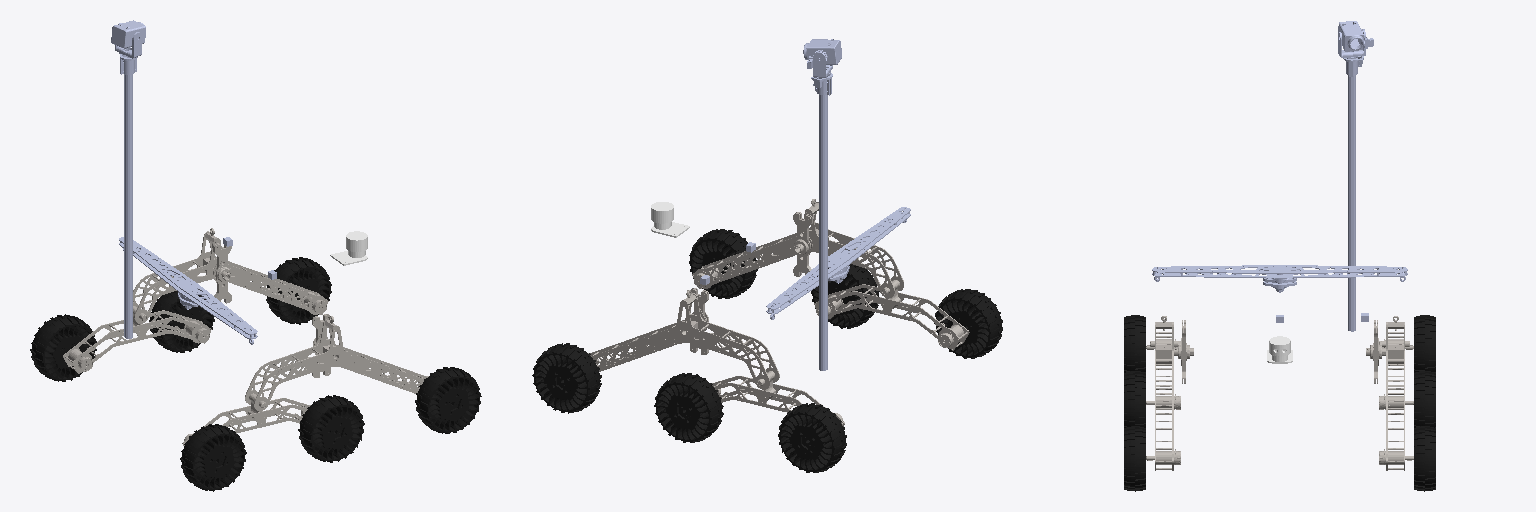
robot.urdf — Chassis:
<?xml version="1.0" encoding="utf-8"?>
<!-- Big rover (Chassis.SLDASM). Hand-built from SolidWorks exports, same structure as mini_rover.urdf.
     Frame + 2 rockers + 2 bogies + 6 wheels; rockers coupled through the differential bar via <mimic>.
     See rover_description/CLAUDE.md ("Big rover") for where every number came from and what is a placeholder. -->
<robot name="Chassis">
  <link name="base_link">
    <inertial>
      <origin xyz="-0.323229813769833 0.000141183589907848 0.120313130621598" rpy="0 0 0" />
      <mass value="2.88138673191465" />
      <inertia ixx="0.0724634" ixy="2.41179e-08" ixz="-3.29817e-05" iyy="0.0548014" iyz="8.02935e-10" izz="0.0898029" />
    </inertial>
    <visual>
      <origin xyz="0 0 0" rpy="0 0 0" />
      <geometry>
        <mesh filename="package://rover_description/meshes/chassis/base_link.STL" />
      </geometry>
      <material name="">
        <color rgba="0.752941176470588 0.752941176470588 0.752941176470588 1" />
      </material>
    </visual>
    <collision>
      <origin xyz="0 0 0" rpy="0 0 0" />
      <geometry>
        <mesh filename="package://rover_description/meshes/chassis/base_link.STL" />
      </geometry>
    </collision>
  </link>
  <link name="RockerL_Link">
    <inertial>
      <origin xyz="0.09 0.12 -0.03" rpy="0 0 0" />
      <mass value="0.98" />
      <inertia ixx="0.0021315" ixy="0" ixz="0" iyy="0.0363417" iyz="0" izz="0.0347982" />
    </inertial>
    <visual>
      <origin xyz="0 0 0" rpy="0 0 0" />
      <geometry>
        <mesh filename="package://rover_description/meshes/chassis/rocker_left.STL" />
      </geometry>
      <material name="">
        <color rgba="0.776470588235294 0.756862745098039 0.737254901960784 1" />
      </material>
    </visual>
    <collision>
      <origin xyz="0 0 0" rpy="0 0 0" />
      <geometry>
        <mesh filename="package://rover_description/meshes/chassis/rocker_left.STL" />
      </geometry>
    </collision>
  </link>
  <joint name="RockerL_joint" type="revolute">
    <origin xyz="-0.25 0.2319125 0.103175" rpy="0 0 0" />
    <parent link="base_link" />
    <child link="RockerL_Link" />
    <axis xyz="0 1 0" />
    <limit lower="-0.35" upper="0.35" effort="0" velocity="0" />
  </joint>
  <link name="WFL_Link">
    <inertial>
      <origin xyz="0 0 0" rpy="0 0 0" />
      <mass value="0.6" />
      <inertia ixx="0.001745" ixy="0" ixz="0" iyy="0.003" iyz="0" izz="0.001745" />
    </inertial>
    <visual>
      <origin xyz="0 0 0" rpy="0 0 0" />
      <geometry>
        <mesh filename="package://rover_description/meshes/chassis/wheel_left.STL" />
      </geometry>
      <material name="">
        <color rgba="0.15 0.15 0.15 1" />
      </material>
    </visual>
    <collision>
      <origin xyz="0 0 0" rpy="1.5707963267949 0 0" />
      <geometry>
        <cylinder radius="0.1" length="0.07" />
      </geometry>
    </collision>
  </link>
  <joint name="WFL_joint" type="continuous">
    <origin xyz="0.347 0.2111 -0.198175" rpy="0 0 0" />
    <parent link="RockerL_Link" />
    <child link="WFL_Link" />
    <axis xyz="0 1 0" />
  </joint>
  <link name="BogieL_Link">
    <inertial>
      <origin xyz="0 0.12 -0.07" rpy="0 0 0" />
      <mass value="0.69" />
      <inertia ixx="0.00117875" ixy="0" ixz="0" iyy="0.0142197" iyz="0" izz="0.013455" />
    </inertial>
    <visual>
      <origin xyz="0 0 0" rpy="0 0 0" />
      <geometry>
        <mesh filename="package://rover_description/meshes/chassis/bogie_left.STL" />
      </geometry>
      <material name="">
        <color rgba="0.776470588235294 0.756862745098039 0.737254901960784 1" />
      </material>
    </visual>
    <collision>
      <origin xyz="0 0 0" rpy="0 0 0" />
      <geometry>
        <mesh filename="package://rover_description/meshes/chassis/bogie_left.STL" />
      </geometry>
    </collision>
  </link>
  <joint name="BogieL_joint" type="revolute">
    <origin xyz="-0.256 0 -0.090175" rpy="0 0 0" />
    <parent link="RockerL_Link" />
    <child link="BogieL_Link" />
    <axis xyz="0 1 0" />
    <limit lower="-0.6" upper="0.6" effort="0" velocity="0" />
  </joint>
  <link name="WML_Link">
    <inertial>
      <origin xyz="0 0 0" rpy="0 0 0" />
      <mass value="0.6" />
      <inertia ixx="0.001745" ixy="0" ixz="0" iyy="0.003" iyz="0" izz="0.001745" />
    </inertial>
    <visual>
      <origin xyz="0 0 0" rpy="0 0 0" />
      <geometry>
        <mesh filename="package://rover_description/meshes/chassis/wheel_left.STL" />
      </geometry>
      <material name="">
        <color rgba="0.15 0.15 0.15 1" />
      </material>
    </visual>
    <collision>
      <origin xyz="0 0 0" rpy="1.5707963267949 0 0" />
      <geometry>
        <cylinder radius="0.1" length="0.07" />
      </geometry>
    </collision>
  </link>
  <joint name="WML_joint" type="continuous">
    <origin xyz="0.204 0.2111 -0.108" rpy="0 0 0" />
    <parent link="BogieL_Link" />
    <child link="WML_Link" />
    <axis xyz="0 1 0" />
  </joint>
  <link name="WBL_Link">
    <inertial>
      <origin xyz="0 0 0" rpy="0 0 0" />
      <mass value="0.6" />
      <inertia ixx="0.001745" ixy="0" ixz="0" iyy="0.003" iyz="0" izz="0.001745" />
    </inertial>
    <visual>
      <origin xyz="0 0 0" rpy="0 0 0" />
      <geometry>
        <mesh filename="package://rover_description/meshes/chassis/wheel_left.STL" />
      </geometry>
      <material name="">
        <color rgba="0.15 0.15 0.15 1" />
      </material>
    </visual>
    <collision>
      <origin xyz="0 0 0" rpy="1.5707963267949 0 0" />
      <geometry>
        <cylinder radius="0.1" length="0.07" />
      </geometry>
    </collision>
  </link>
  <joint name="WBL_joint" type="continuous">
    <origin xyz="-0.2 0.2111 -0.108" rpy="0 0 0" />
    <parent link="BogieL_Link" />
    <child link="WBL_Link" />
    <axis xyz="0 1 0" />
  </joint>
  <link name="RockerR_Link">
    <inertial>
      <origin xyz="0.09 -0.12 -0.03" rpy="0 0 0" />
      <mass value="0.98" />
      <inertia ixx="0.0021315" ixy="0" ixz="0" iyy="0.0363417" iyz="0" izz="0.0347982" />
    </inertial>
    <visual>
      <origin xyz="0 0 0" rpy="0 0 0" />
      <geometry>
        <mesh filename="package://rover_description/meshes/chassis/rocker_right.STL" />
      </geometry>
      <material name="">
        <color rgba="0.776470588235294 0.756862745098039 0.737254901960784 1" />
      </material>
    </visual>
    <collision>
      <origin xyz="0 0 0" rpy="0 0 0" />
      <geometry>
        <mesh filename="package://rover_description/meshes/chassis/rocker_right.STL" />
      </geometry>
    </collision>
  </link>
  <joint name="RockerR_joint" type="revolute">
    <!-- Rockers are coupled through the differential: R = -L -->
    <origin xyz="-0.25 -0.2319125 0.103175" rpy="0 0 0" />
    <parent link="base_link" />
    <child link="RockerR_Link" />
    <axis xyz="0 1 0" />
    <limit lower="-0.35" upper="0.35" effort="0" velocity="0" />
    <mimic joint="RockerL_joint" multiplier="-1" offset="0" />
  </joint>
  <link name="WFR_Link">
    <inertial>
      <origin xyz="0 0 0" rpy="0 0 0" />
      <mass value="0.6" />
      <inertia ixx="0.001745" ixy="0" ixz="0" iyy="0.003" iyz="0" izz="0.001745" />
    </inertial>
    <visual>
      <origin xyz="0 0 0" rpy="0 0 0" />
      <geometry>
        <mesh filename="package://rover_description/meshes/chassis/wheel_right.STL" />
      </geometry>
      <material name="">
        <color rgba="0.15 0.15 0.15 1" />
      </material>
    </visual>
    <collision>
      <origin xyz="0 0 0" rpy="1.5707963267949 0 0" />
      <geometry>
        <cylinder radius="0.1" length="0.07" />
      </geometry>
    </collision>
  </link>
  <joint name="WFR_joint" type="continuous">
    <origin xyz="0.347 -0.2111 -0.198175" rpy="0 0 0" />
    <parent link="RockerR_Link" />
    <child link="WFR_Link" />
    <axis xyz="0 1 0" />
  </joint>
  <link name="BogieR_Link">
    <inertial>
      <origin xyz="0 -0.12 -0.07" rpy="0 0 0" />
      <mass value="0.69" />
      <inertia ixx="0.00117875" ixy="0" ixz="0" iyy="0.0142197" iyz="0" izz="0.013455" />
    </inertial>
    <visual>
      <origin xyz="0 0 0" rpy="0 0 0" />
      <geometry>
        <mesh filename="package://rover_description/meshes/chassis/bogie_right.STL" />
      </geometry>
      <material name="">
        <color rgba="0.776470588235294 0.756862745098039 0.737254901960784 1" />
      </material>
    </visual>
    <collision>
      <origin xyz="0 0 0" rpy="0 0 0" />
      <geometry>
        <mesh filename="package://rover_description/meshes/chassis/bogie_right.STL" />
      </geometry>
    </collision>
  </link>
  <joint name="BogieR_joint" type="revolute">
    <origin xyz="-0.256 0 -0.090175" rpy="0 0 0" />
    <parent link="RockerR_Link" />
    <child link="BogieR_Link" />
    <axis xyz="0 1 0" />
    <limit lower="-0.6" upper="0.6" effort="0" velocity="0" />
  </joint>
  <link name="WMR_Link">
    <inertial>
      <origin xyz="0 0 0" rpy="0 0 0" />
      <mass value="0.6" />
      <inertia ixx="0.001745" ixy="0" ixz="0" iyy="0.003" iyz="0" izz="0.001745" />
    </inertial>
    <visual>
      <origin xyz="0 0 0" rpy="0 0 0" />
      <geometry>
        <mesh filename="package://rover_description/meshes/chassis/wheel_right.STL" />
      </geometry>
      <material name="">
        <color rgba="0.15 0.15 0.15 1" />
      </material>
    </visual>
    <collision>
      <origin xyz="0 0 0" rpy="1.5707963267949 0 0" />
      <geometry>
        <cylinder radius="0.1" length="0.07" />
      </geometry>
    </collision>
  </link>
  <joint name="WMR_joint" type="continuous">
    <origin xyz="0.204 -0.2111 -0.108" rpy="0 0 0" />
    <parent link="BogieR_Link" />
    <child link="WMR_Link" />
    <axis xyz="0 1 0" />
  </joint>
  <link name="WBR_Link">
    <inertial>
      <origin xyz="0 0 0" rpy="0 0 0" />
      <mass value="0.6" />
      <inertia ixx="0.001745" ixy="0" ixz="0" iyy="0.003" iyz="0" izz="0.001745" />
    </inertial>
    <visual>
      <origin xyz="0 0 0" rpy="0 0 0" />
      <geometry>
        <mesh filename="package://rover_description/meshes/chassis/wheel_right.STL" />
      </geometry>
      <material name="">
        <color rgba="0.15 0.15 0.15 1" />
      </material>
    </visual>
    <collision>
      <origin xyz="0 0 0" rpy="1.5707963267949 0 0" />
      <geometry>
        <cylinder radius="0.1" length="0.07" />
      </geometry>
    </collision>
  </link>
  <joint name="WBR_joint" type="continuous">
    <origin xyz="-0.2 -0.2111 -0.108" rpy="0 0 0" />
    <parent link="BogieR_Link" />
    <child link="WBR_Link" />
    <axis xyz="0 1 0" />
  </joint>
  <link name="Differential_Link">
    <inertial>
      <origin xyz="0 0 0.06" rpy="0 0 0" />
      <mass value="0.55" />
      <inertia ixx="0.0279996" ixy="0" ixz="0" iyy="0.000279583" iyz="0" izz="0.02805" />
    </inertial>
    <visual>
      <origin xyz="0 0 0" rpy="0 0 0" />
      <geometry>
        <mesh filename="package://rover_description/meshes/chassis/differential_bar.STL" />
      </geometry>
      <material name="">
        <color rgba="0.792156862745098 0.819607843137255 0.933333333333333 1" />
      </material>
    </visual>
    <collision>
      <origin xyz="0 0 0" rpy="0 0 0" />
      <geometry>
        <mesh filename="package://rover_description/meshes/chassis/differential_bar.STL" />
      </geometry>
    </collision>
  </link>
  <joint name="Differential_joint" type="revolute">
    <!-- Bar follows the rockers via link rods running along x (rocker ball 0.1127 m above the pivot -> bar ball at |y| 0.375 m). multiplier = -0.112/0.375 ~= -0.3 (small-angle). -->
    <origin xyz="-0.535735 0 0.172959" rpy="0 0 0" />
    <parent link="base_link" />
    <child link="Differential_Link" />
    <axis xyz="0 0 1" />
    <limit lower="-0.35" upper="0.35" effort="0" velocity="0" />
    <mimic joint="RockerL_joint" multiplier="-0.3" offset="0" />
  </joint>
  <link name="LiDAR_Link">
    <inertial>
      <origin xyz="-0.0261061014235503 -4.55680518327666E-08 0.0285945311604336" rpy="0 0 0" />
      <mass value="0.215990422113963" />
      <inertia ixx="0.000114309" ixy="3.04724e-10" ixz="6.62519e-07" iyy="0.000117412" iyz="3.16376e-11" izz="0.000124138" />
    </inertial>
    <visual>
      <origin xyz="0 0 0" rpy="0 0 0" />
      <geometry>
        <mesh filename="package://rover_description/meshes/misc/chassis_lidar.STL" />
      </geometry>
      <material name="">
        <color rgba="1 1 1 0.35" />
      </material>
    </visual>
    <collision>
      <origin xyz="0 0 0" rpy="0 0 0" />
      <geometry>
        <mesh filename="package://rover_description/meshes/misc/chassis_lidar.STL" />
      </geometry>
    </collision>
  </link>
  <joint name="LiDAR_joint" type="fixed">
    <origin xyz="0.0625 0 0.21476" rpy="0 0 0" />
    <parent link="base_link" />
    <child link="LiDAR_Link" />
  </joint>
  <link name="PTZ_Link">
    <inertial>
      <origin xyz="-0.00928620373163125 0.00150178339648377 -0.182772691673925" rpy="0 0 0" />
      <mass value="0.381186493803212" />
      <inertia ixx="0.0107542" ixy="2.60657e-06" ixz="-1.38824e-06" iyy="0.0106927" iyz="-1.71972e-07" izz="0.000187498" />
    </inertial>
    <visual>
      <origin xyz="0 0 0" rpy="0 0 0" />
      <geometry>
        <mesh filename="package://rover_description/meshes/misc/chassis_ptz.STL" />
      </geometry>
      <material name="">
        <color rgba="0.792156862745098 0.819607843137255 0.933333333333333 1" />
      </material>
    </visual>
    <collision>
      <origin xyz="0 0 0" rpy="0 0 0" />
      <geometry>
        <mesh filename="package://rover_description/meshes/misc/chassis_ptz.STL" />
      </geometry>
    </collision>
  </link>
  <joint name="PTZ_joint" type="fixed">
    <origin xyz="-0.60299 0.22239 0.951" rpy="0 0 0.2412" />
    <parent link="base_link" />
    <child link="PTZ_Link" />
  </joint>
  <link name="IMU_Link">
    <inertial>
      <origin xyz="0.0095 0.0125 0.0095" rpy="0 0 0" />
      <mass value="0.009025" />
      <inertia ixx="7.41554e-07" ixy="0" ixz="0" iyy="5.43004e-07" iyz="0" izz="7.41554e-07" />
    </inertial>
    <visual>
      <origin xyz="0 0 0" rpy="0 0 0" />
      <geometry>
        <mesh filename="package://rover_description/meshes/misc/chassis_imu.STL" />
      </geometry>
      <material name="">
        <color rgba="0.792156862745098 0.819607843137255 0.933333333333333 1" />
      </material>
    </visual>
    <collision>
      <origin xyz="0 0 0" rpy="0 0 0" />
      <geometry>
        <mesh filename="package://rover_description/meshes/misc/chassis_imu.STL" />
      </geometry>
    </collision>
  </link>
  <joint name="IMU_joint" type="fixed">
    <origin xyz="-0.2575 -0.0125 0.20674" rpy="0 0 0" />
    <parent link="base_link" />
    <child link="IMU_Link" />
  </joint>
  <link name="GPS_Left_Link">
    <inertial>
      <origin xyz="0.0095 -0.0125 0.0095" rpy="0 0 0" />
      <mass value="0.009025" />
      <inertia ixx="7.41554e-07" ixy="0" ixz="0" iyy="5.43004e-07" iyz="0" izz="7.41554e-07" />
    </inertial>
    <visual>
      <origin xyz="0 0 0" rpy="0 0 0" />
      <geometry>
        <mesh filename="package://rover_description/meshes/misc/chassis_left_gps.STL" />
      </geometry>
      <material name="">
        <color rgba="0.792156862745098 0.819607843137255 0.933333333333333 1" />
      </material>
    </visual>
    <collision>
      <origin xyz="0 0 0" rpy="0 0 0" />
      <geometry>
        <mesh filename="package://rover_description/meshes/misc/chassis_left_gps.STL" />
      </geometry>
    </collision>
  </link>
  <joint name="GPS_Left_joint" type="fixed">
    <origin xyz="-0.2595 0.2732639 0.21" rpy="0 0 0" />
    <parent link="base_link" />
    <child link="GPS_Left_Link" />
  </joint>
  <link name="GPS_Right_Link">
    <inertial>
      <origin xyz="0.0095 0.0125 0.0095" rpy="0 0 0" />
      <mass value="0.009025" />
      <inertia ixx="7.41554e-07" ixy="0" ixz="0" iyy="5.43004e-07" iyz="0" izz="7.41554e-07" />
    </inertial>
    <visual>
      <origin xyz="0 0 0" rpy="0 0 0" />
      <geometry>
        <mesh filename="package://rover_description/meshes/misc/chassis_right_gps.STL" />
      </geometry>
      <material name="">
        <color rgba="0.792156862745098 0.819607843137255 0.933333333333333 1" />
      </material>
    </visual>
    <collision>
      <origin xyz="0 0 0" rpy="0 0 0" />
      <geometry>
        <mesh filename="package://rover_description/meshes/misc/chassis_right_gps.STL" />
      </geometry>
    </collision>
  </link>
  <joint name="GPS_Right_joint" type="fixed">
    <origin xyz="-0.2595 -0.2732639 0.21" rpy="0 0 0" />
    <parent link="base_link" />
    <child link="GPS_Right_Link" />
  </joint>
</robot>

--- What the picture shows (computed from the rendered views, not written in the file) ---
Views: 3 orthographic renders of the robot side by side, from view 1: azimuth 30°, elevation 25°; view 2: azimuth 150°, elevation 25°; view 3: azimuth 270°, elevation 25°.
Model Chassis with 17 links and 16 joints (5 revolute, 6 continuous, 5 fixed), rooted at base_link, posed all joints at 0.
Visible links, largest first — view 1: RockerR_Link, RockerL_Link, PTZ_Link, WFR_Link, WMR_Link, WBR_Link, WBL_Link, BogieL_Link, Differential_Link, WFL_Link, WML_Link, BogieR_Link (+1 smaller); view 2: RockerL_Link, RockerR_Link, PTZ_Link, WBL_Link, WFL_Link, WML_Link, WBR_Link, BogieR_Link, Differential_Link, WFR_Link, BogieL_Link, WMR_Link (+1 smaller); view 3: PTZ_Link, Differential_Link, RockerR_Link, RockerL_Link, WFL_Link, WFR_Link, WBR_Link, WBL_Link, WML_Link, WMR_Link, LiDAR_Link, BogieL_Link (+1 smaller).
Boxes of the visible links, x1,y1,x2,y2 form: RockerR_Link: [229, 314, 428, 417]; RockerL_Link: [109, 228, 328, 329]; PTZ_Link: [111, 20, 145, 338]; WFR_Link: [415, 367, 481, 433]; WMR_Link: [298, 395, 364, 462]; WBR_Link: [180, 424, 246, 491]; WBL_Link: [30, 314, 96, 381]; BogieL_Link: [63, 306, 211, 373]; Differential_Link: [119, 237, 257, 344]; WFL_Link: [266, 257, 331, 324]; WML_Link: [149, 291, 214, 352]; BogieR_Link: [182, 394, 310, 445]; RockerL_Link: [588, 288, 795, 396]; RockerR_Link: [692, 199, 920, 304]; PTZ_Link: [803, 39, 841, 370]; WBL_Link: [778, 403, 846, 472]; WFL_Link: [532, 343, 601, 413]; WML_Link: [654, 373, 723, 442]; WBR_Link: [934, 289, 1002, 358]; BogieR_Link: [814, 280, 969, 350]; Differential_Link: [766, 207, 910, 319]; WFR_Link: [689, 229, 757, 298]; BogieL_Link: [712, 371, 844, 426]; WMR_Link: [811, 264, 879, 328]; PTZ_Link: [1338, 21, 1373, 331]; Differential_Link: [1152, 265, 1407, 292]; RockerR_Link: [1146, 316, 1193, 470]; RockerL_Link: [1366, 316, 1413, 470]; WFL_Link: [1414, 426, 1435, 491]; WFR_Link: [1124, 426, 1145, 491]; WBR_Link: [1124, 315, 1145, 372]; WBL_Link: [1414, 315, 1435, 372]; WML_Link: [1414, 371, 1435, 427]; WMR_Link: [1124, 371, 1145, 427]; LiDAR_Link: [1267, 336, 1292, 363]; BogieL_Link: [1379, 339, 1413, 414].
Size in the robot's own frame: 1 by 0.9547 by 1.23 metres.
15 mesh visuals loaded from 13 distinct referenced files (11 binary STL); not drawn: 2 (reference not matched to a file when rendering).
